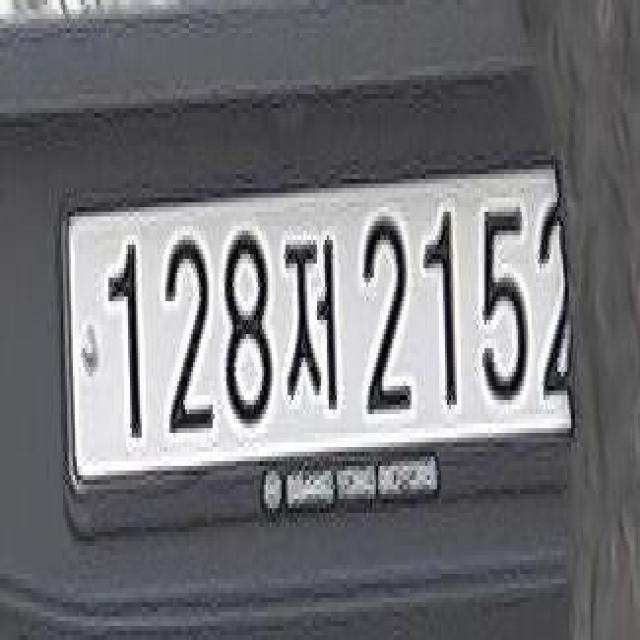illegal_plate: (59, 160, 571, 524)
